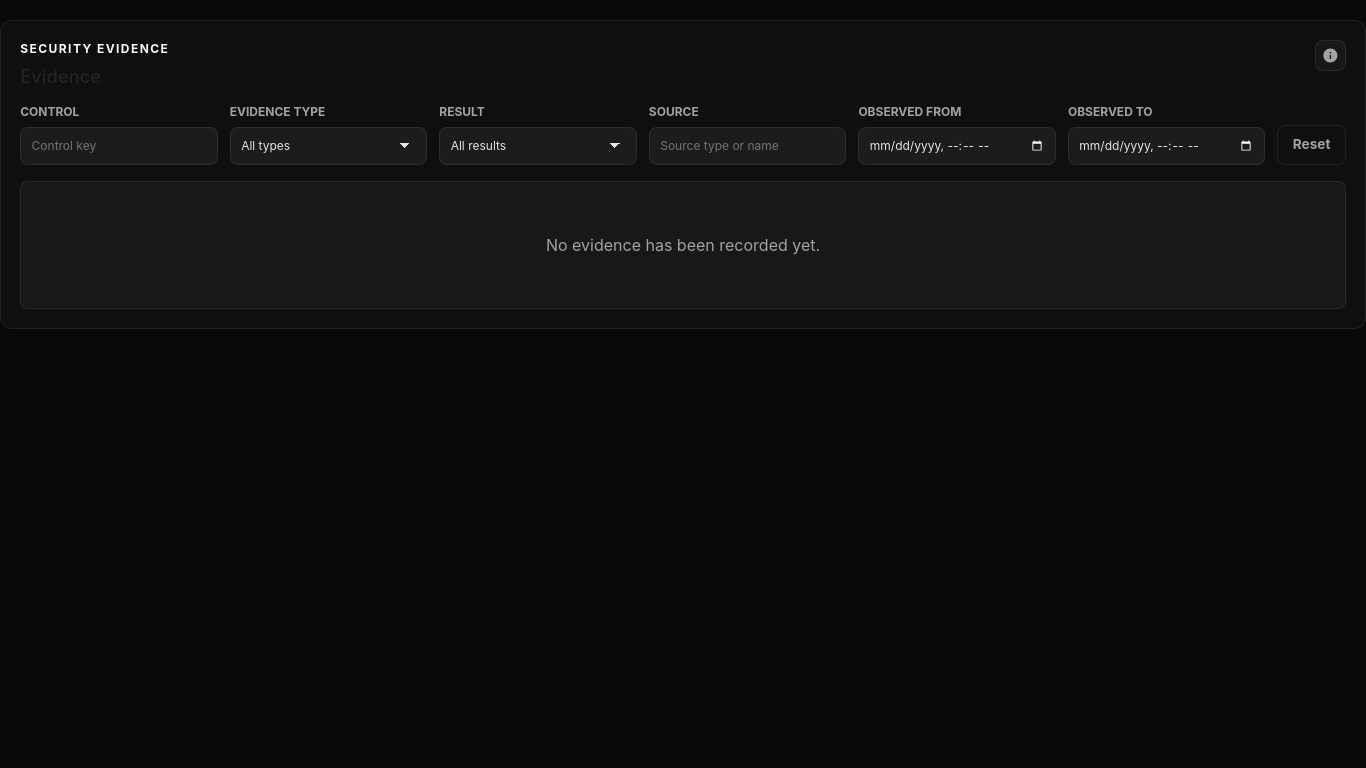
Test: Observatory section-level help wiring › Evidence section shows backend-driven help, not hardcoded copy
Click the button named "Explain Security Evidence" at (1331, 55), box [1315,40,1346,71]
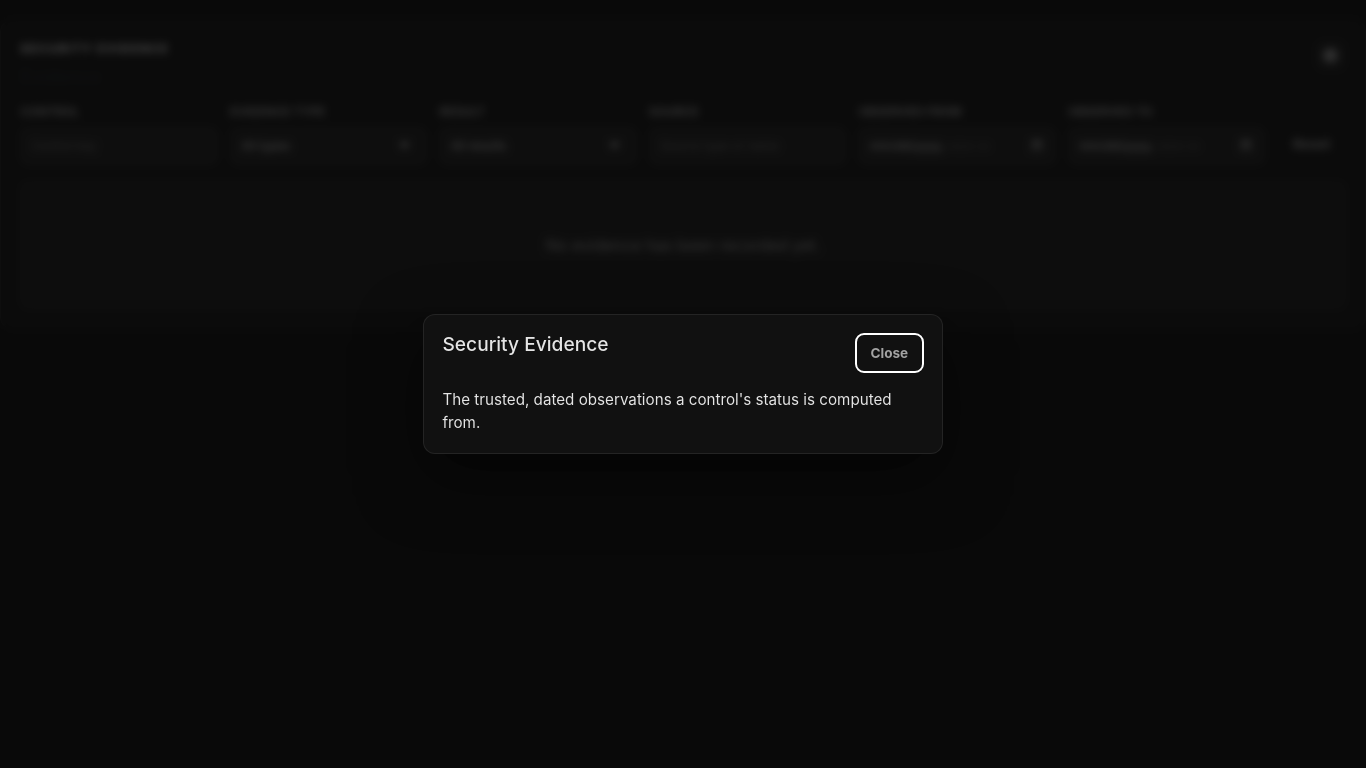
Expected: the text "The trusted, dated observations a control's status is computed from." is shown, [442,388,924,435]
